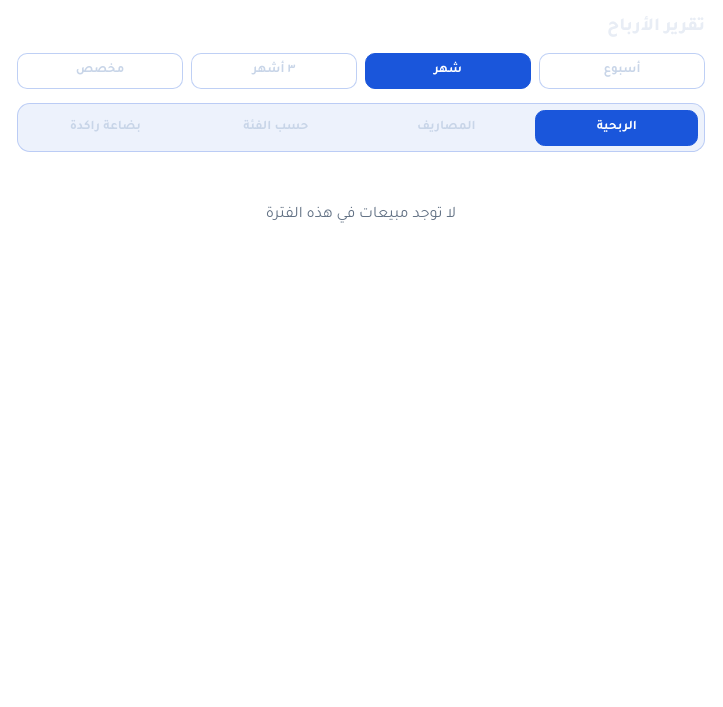
it: ReportsPage period-over-period delta › shows a green +15% delta when current profit is above previous equivalent period
This screenshot has width=723, height=707.
Click the button with test id "period-custom": click(100, 71) [17, 53, 183, 89]
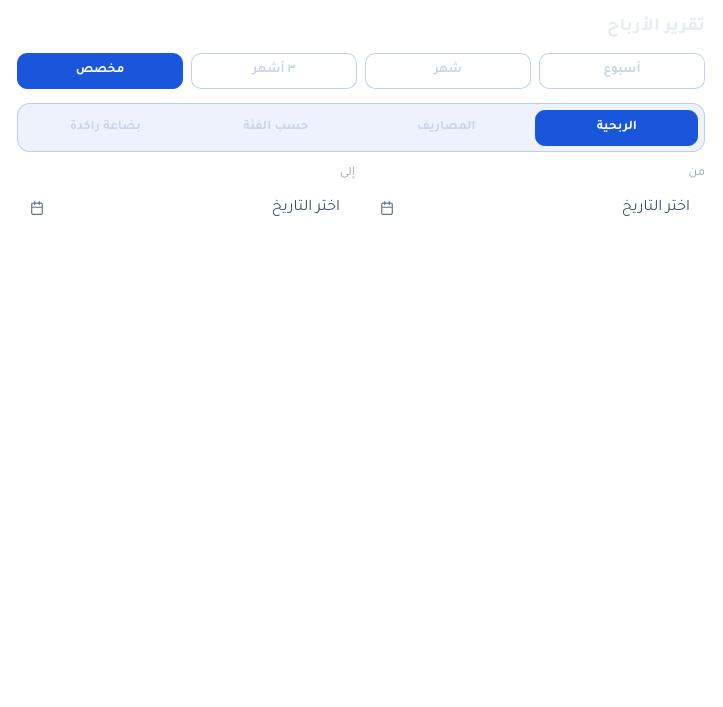
In the dropdown with id "reports-custom-start": (536, 208) [367, 188, 705, 228], type "2026-06-01"
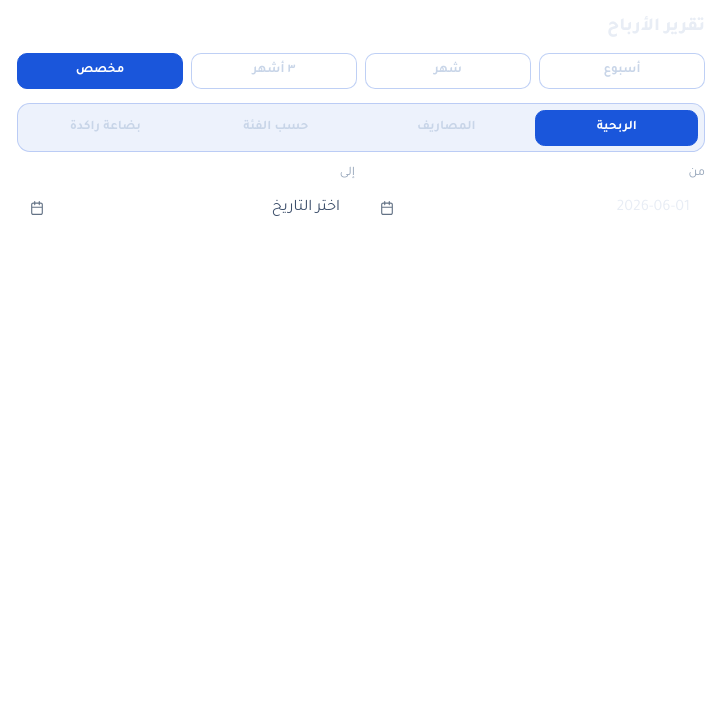
In the dropdown with id "reports-custom-end": (186, 208) [17, 188, 355, 228], type "2026-06-12"
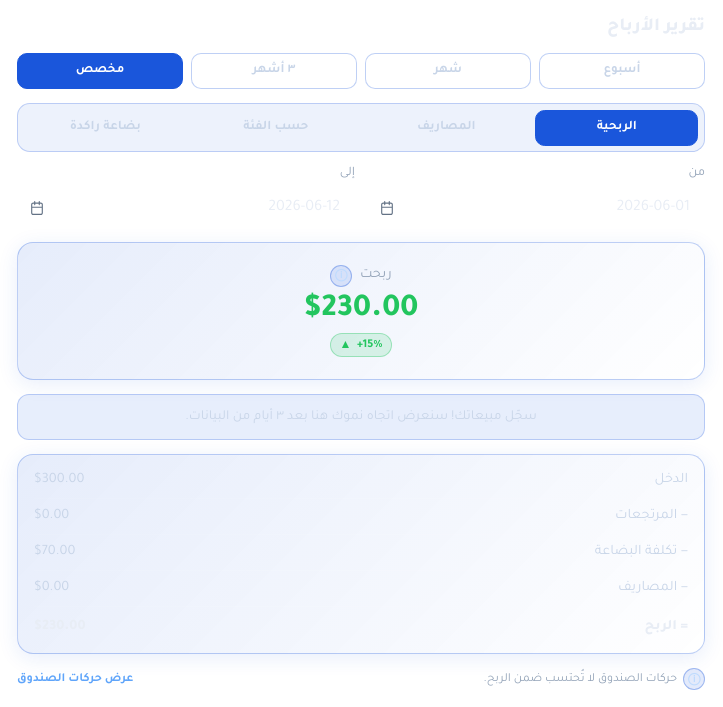
Expected: the element with test id "profit-delta" shows "+15%", [357, 339, 383, 351]
